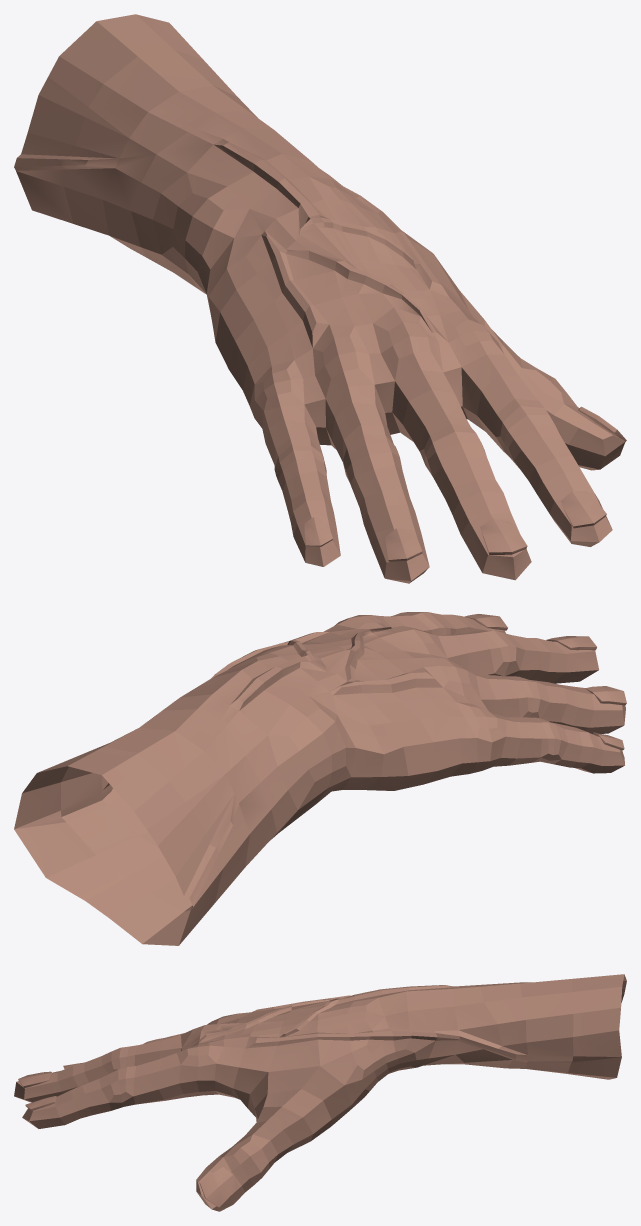
The model's file is 5_5_HandPolygonalRightBack.glb.
3 renders of one model, top to bottom at view 1: azimuth 30°, elevation 25°; view 2: azimuth 150°, elevation 25°; view 3: azimuth 270°, elevation 25°, orthographic. The views are drawn at different scales.
Parts seen in each view (by area): view 1: polySurface920.005; view 2: polySurface920.005; view 3: polySurface920.005.
Part boxes in pixels (left/top/right/bottom): polySurface920.005: left=14, top=14, right=626, bottom=583; polySurface920.005: left=14, top=612, right=626, bottom=945; polySurface920.005: left=14, top=974, right=626, bottom=1211.
Size of the model in its own units: 0.0873 by 0.0587 by 0.1856.
